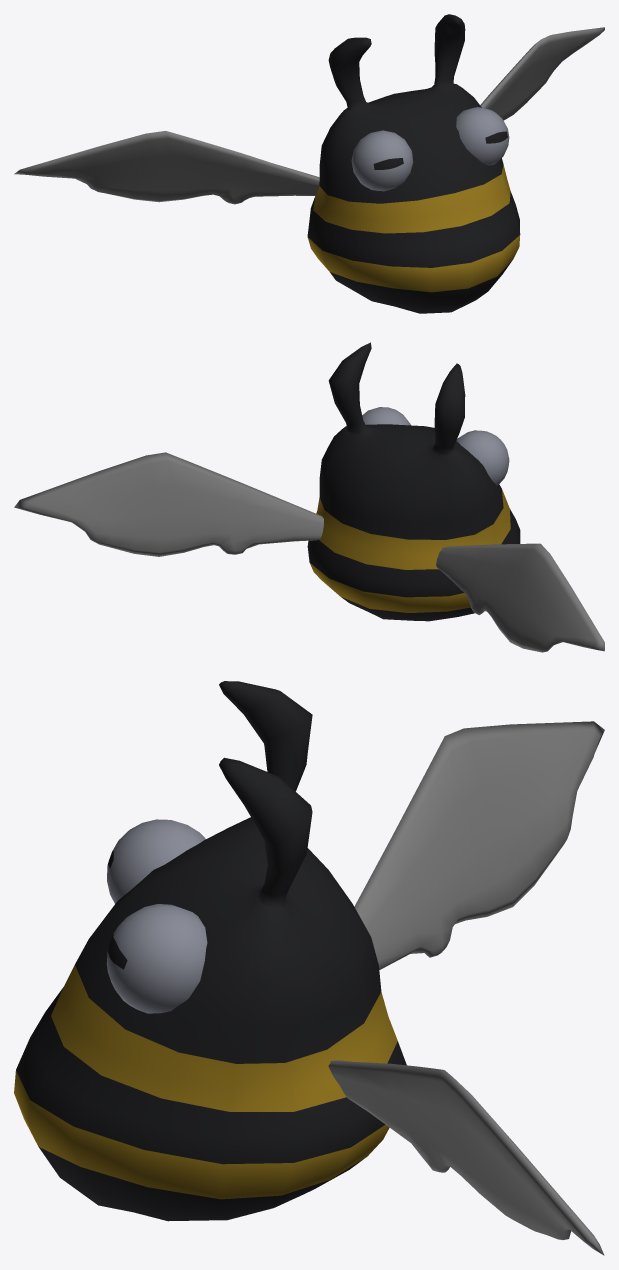
File: q_armabee.glb
3 renders of one model, top to bottom at view 1: azimuth 30°, elevation 25°; view 2: azimuth 150°, elevation 25°; view 3: azimuth 270°, elevation 25°, orthographic. The views are drawn at different scales.
Visible parts, largest first — view 1: Armabee_b; view 2: Armabee_b; view 3: Armabee_b.
Boxes of the visible parts, x1,y1,x2,y2 form: Armabee_b: (14, 14, 604, 313); Armabee_b: (14, 342, 604, 652); Armabee_b: (14, 681, 604, 1255).
Size of the model in its own units: 2.35 by 1 by 1.12.
